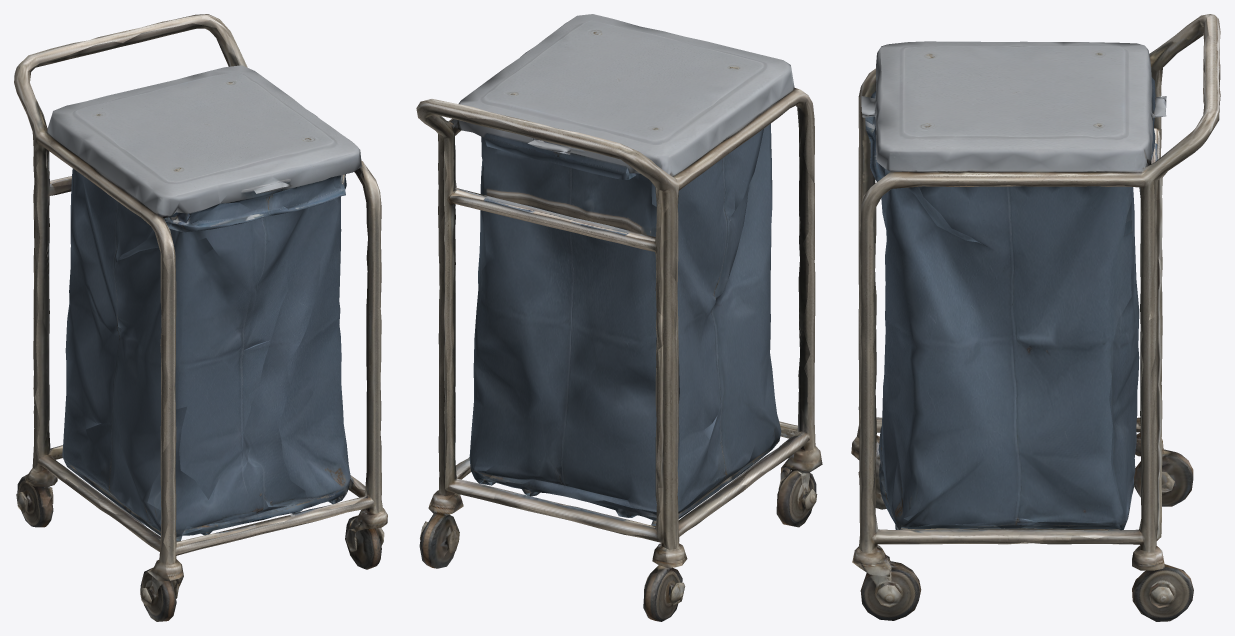
The model's file is CFD_LinenHamper.fbx.
3 renders of one model, left to right at view 1: azimuth 30°, elevation 25°; view 2: azimuth 150°, elevation 25°; view 3: azimuth 270°, elevation 25°, orthographic. The views are drawn at different scales.
Visible parts, largest first — view 1: CFD_LinenHamper_LOD0; view 2: CFD_LinenHamper_LOD0; view 3: CFD_LinenHamper_LOD0.
Boxes of the visible parts, <box> form: CFD_LinenHamper_LOD0: <box>14,14,387,621</box>; CFD_LinenHamper_LOD0: <box>416,14,822,621</box>; CFD_LinenHamper_LOD0: <box>851,14,1220,621</box>.
Size of what is drawn, in the model's own units: 52.98 by 95 by 63.05.
